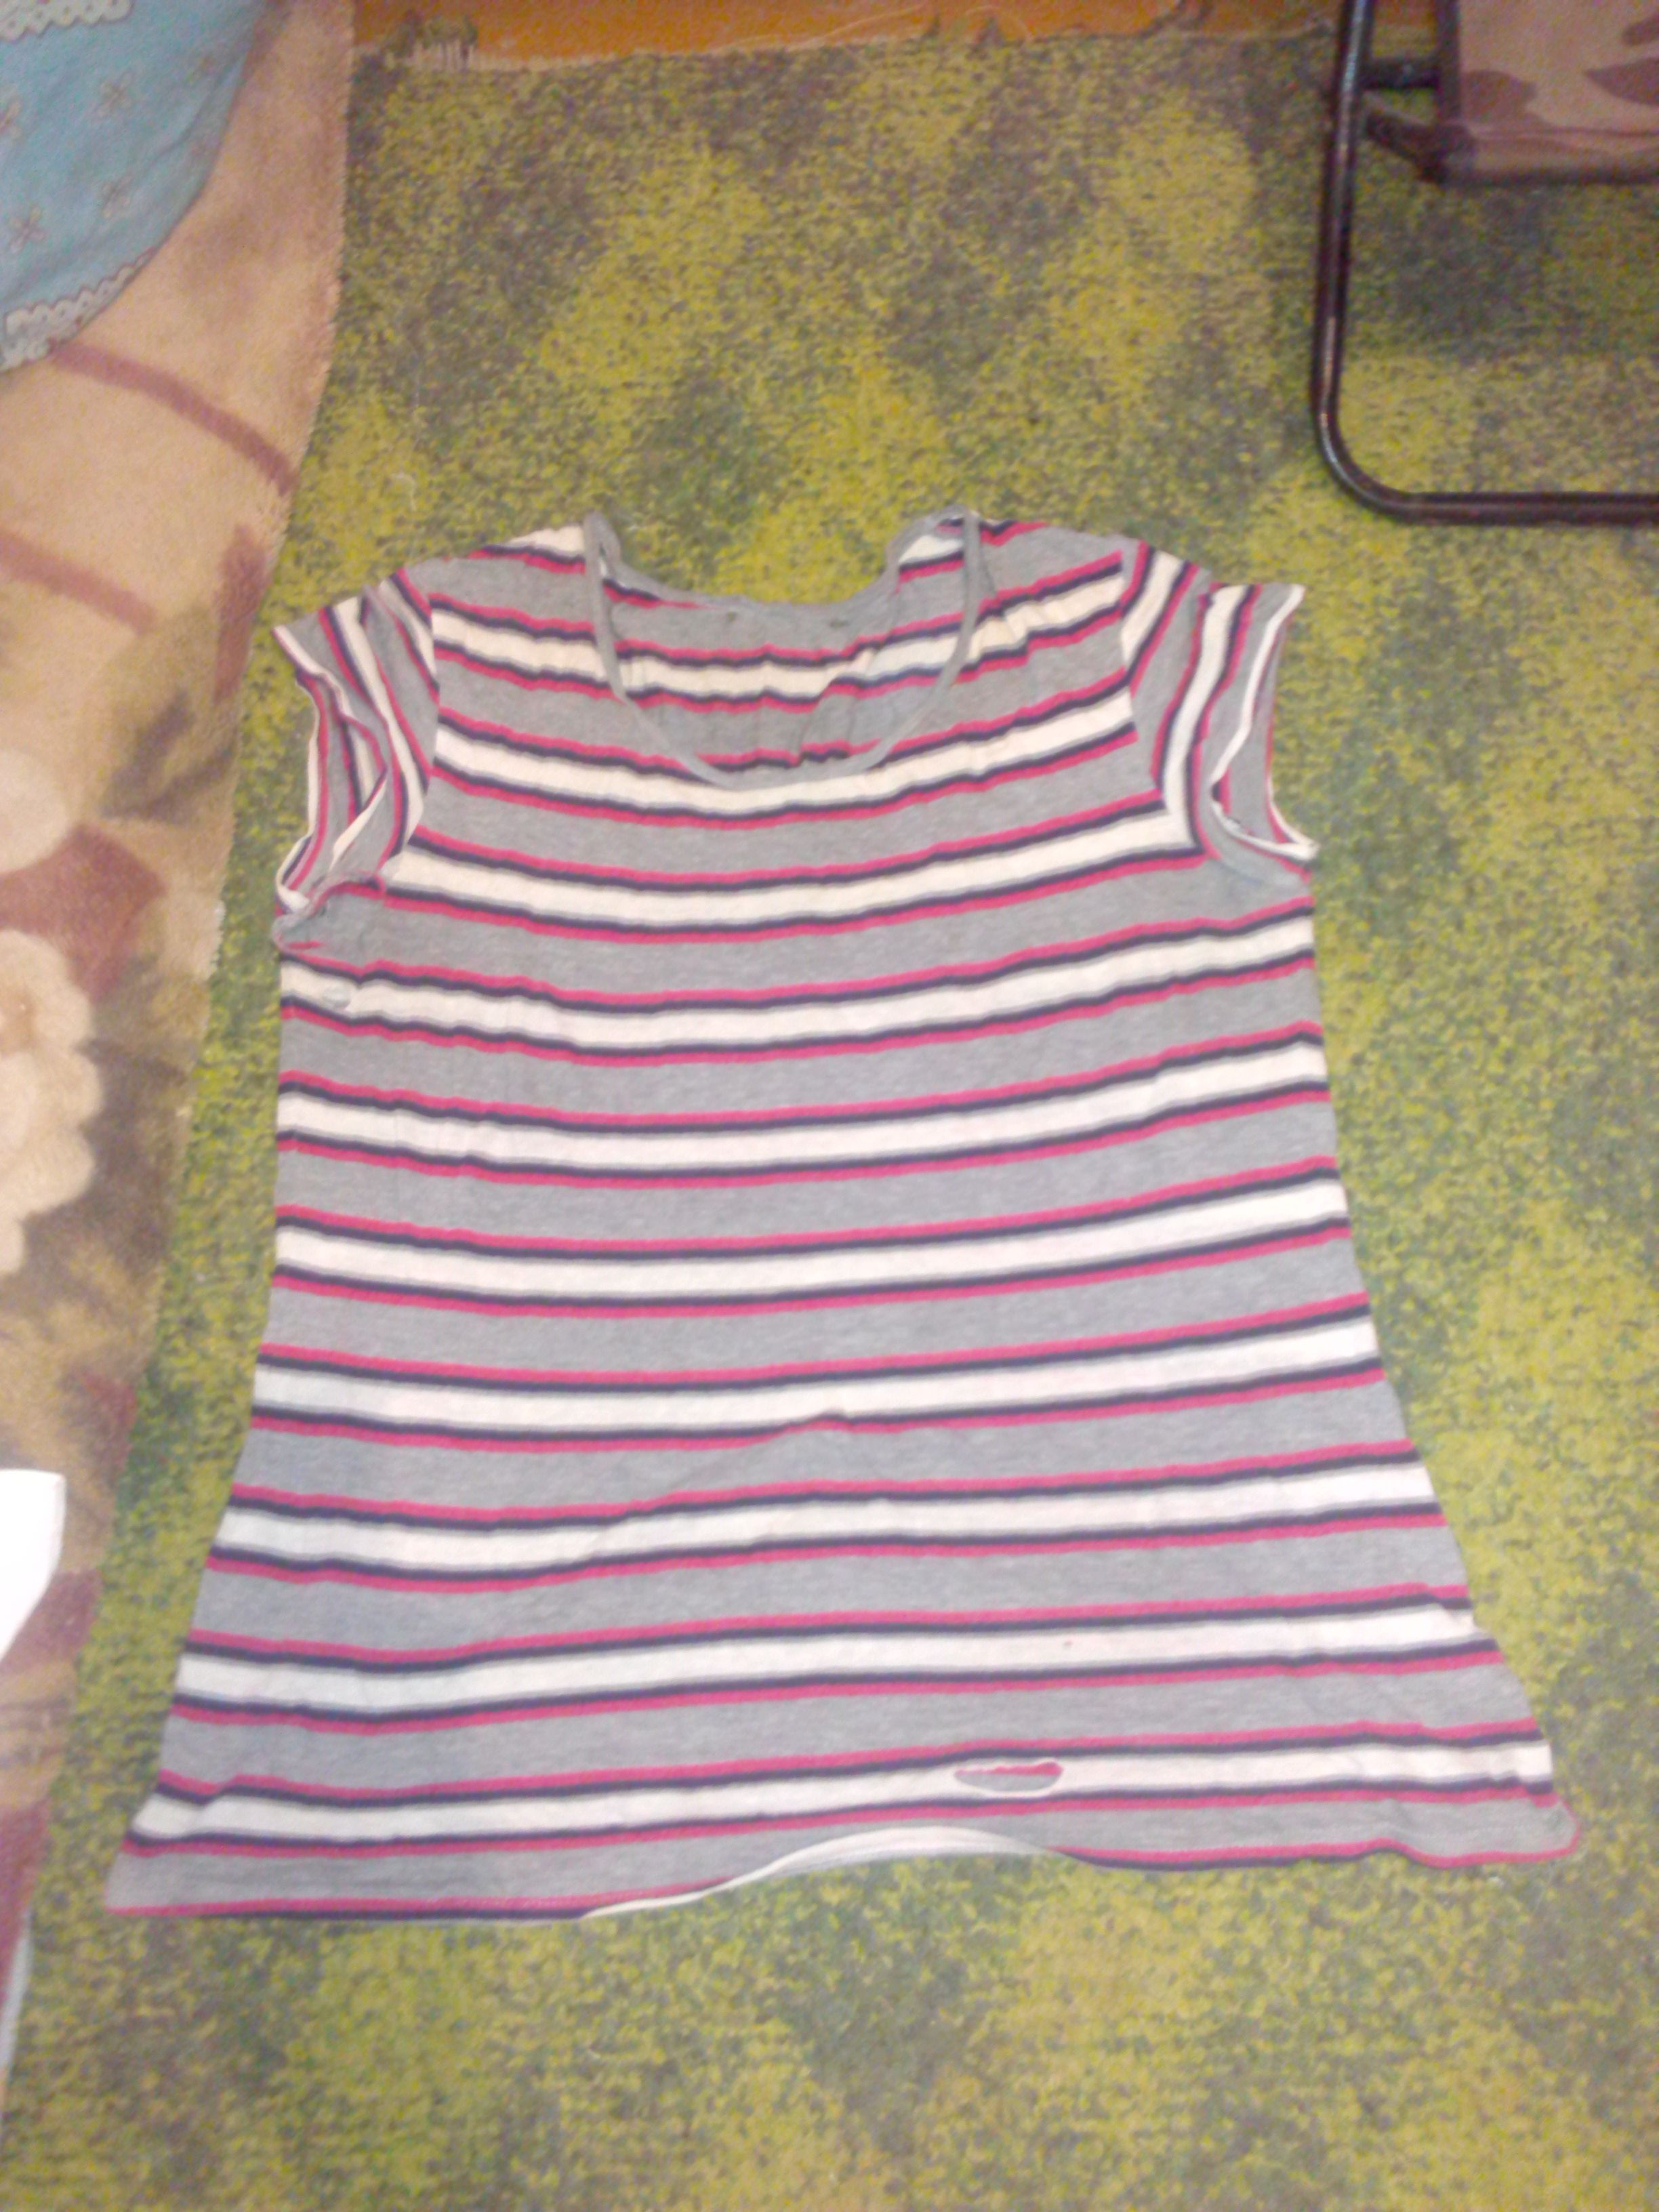clothes: (68, 514, 1561, 1885)
